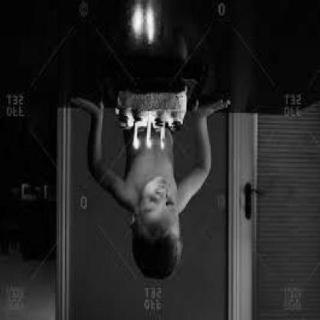Fire: (128, 137, 170, 159)
other: (116, 9, 167, 56)
